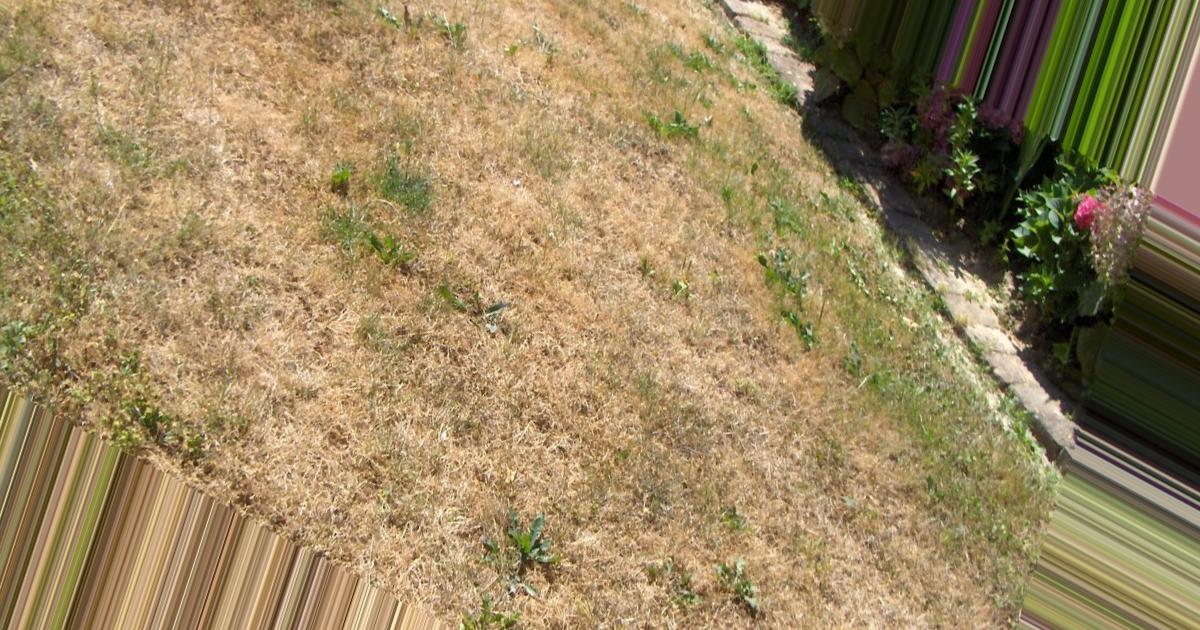patch: (642, 384, 930, 607), (81, 43, 310, 322), (253, 362, 582, 518), (501, 155, 716, 336)
